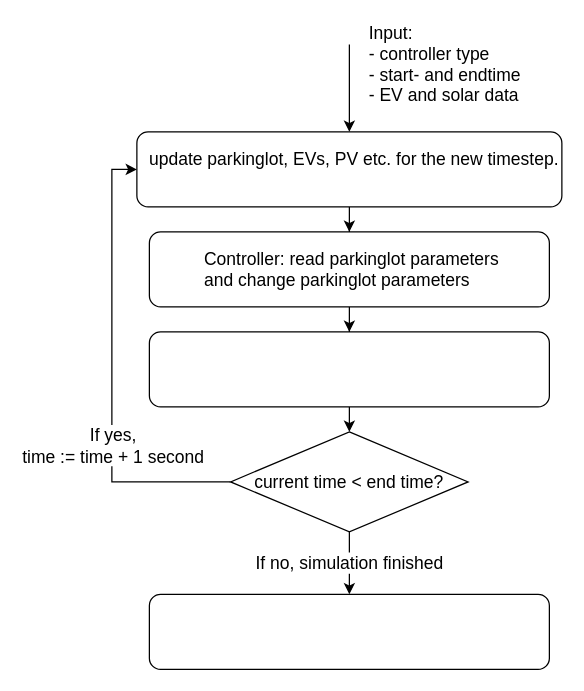
The diagram is 584 pixels wide and 691 high, and some of its shapes have lost their labels. The centre of each missing label's shape, as x and y in pixels:
Compute metrics and plot results: point (348, 631)
Store any desired state variables in "data": point (348, 369)
